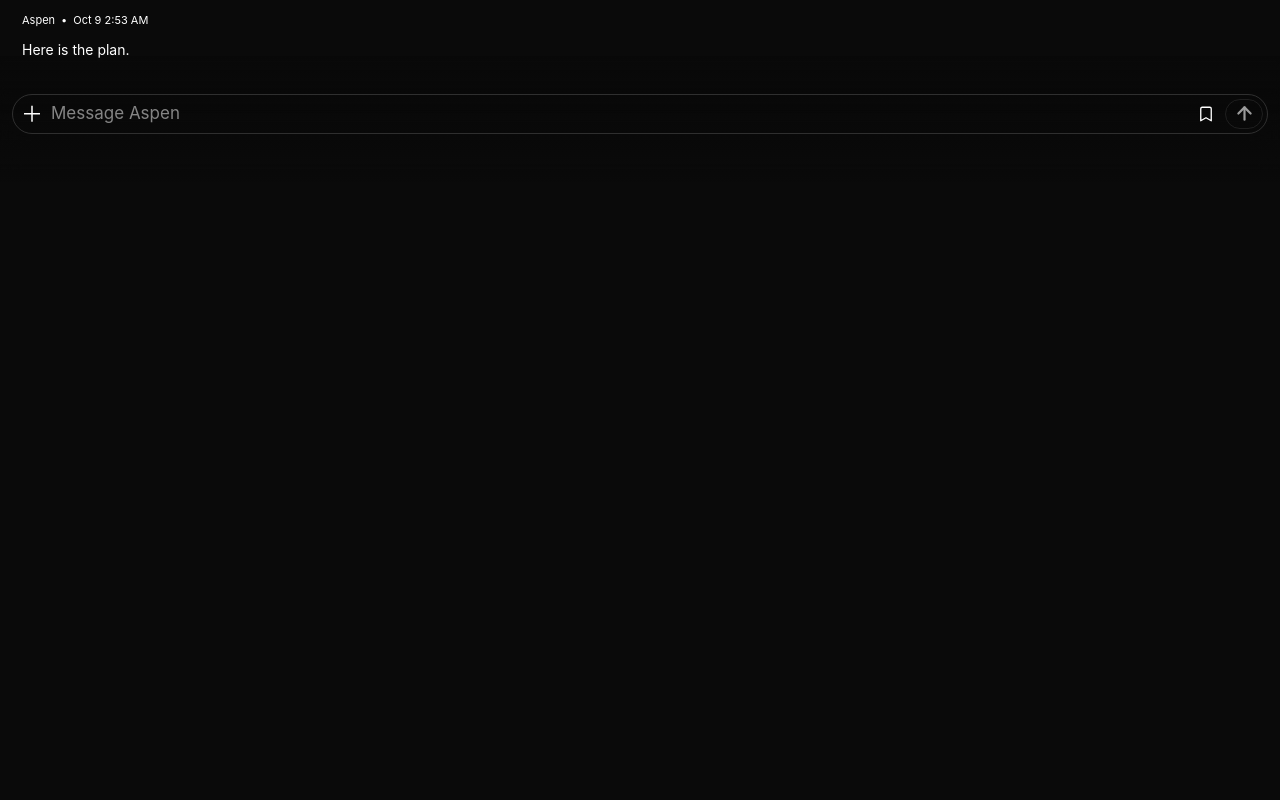
Test case: the stash button and sheet › ✕ deletes an item
Click the button with test id "stash-button": (1206,114) [1191, 98, 1221, 128]
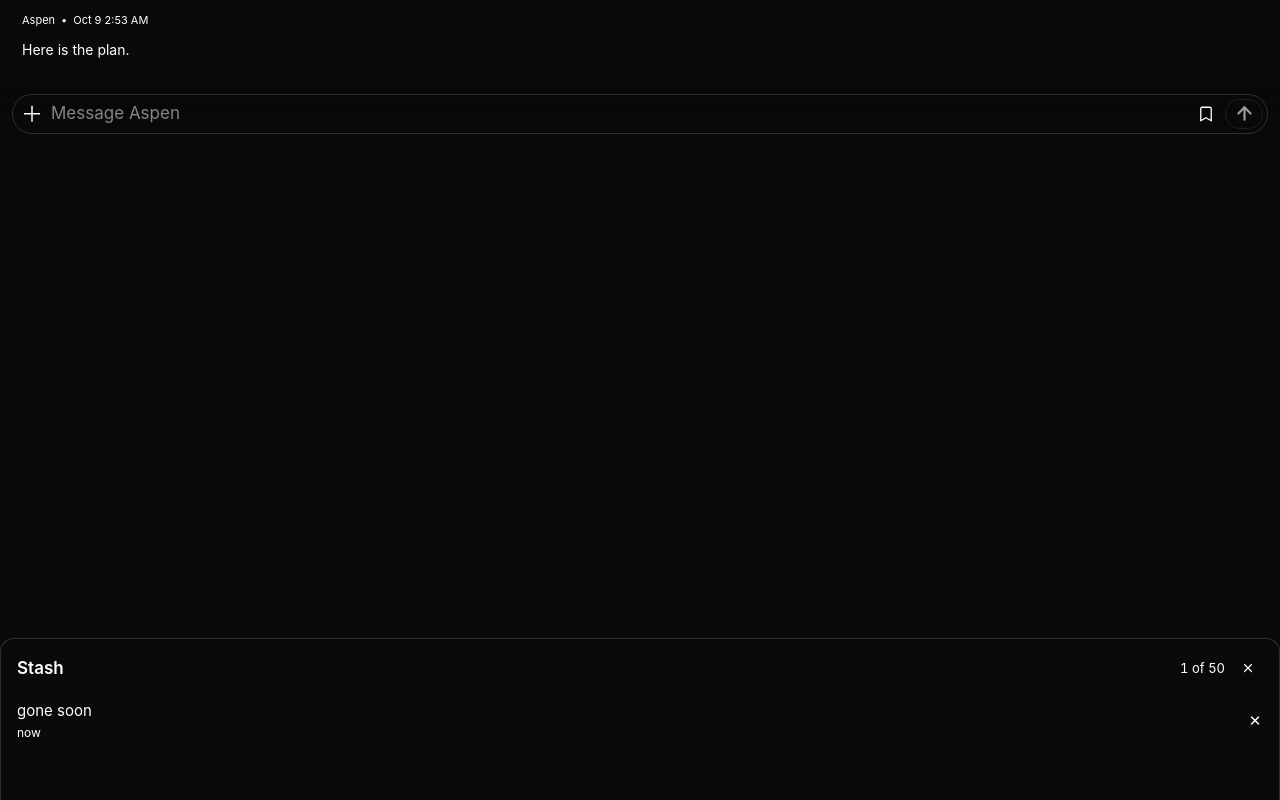
Click the button with test id "stash-item-delete": (1255,722) [1231, 691, 1279, 752]
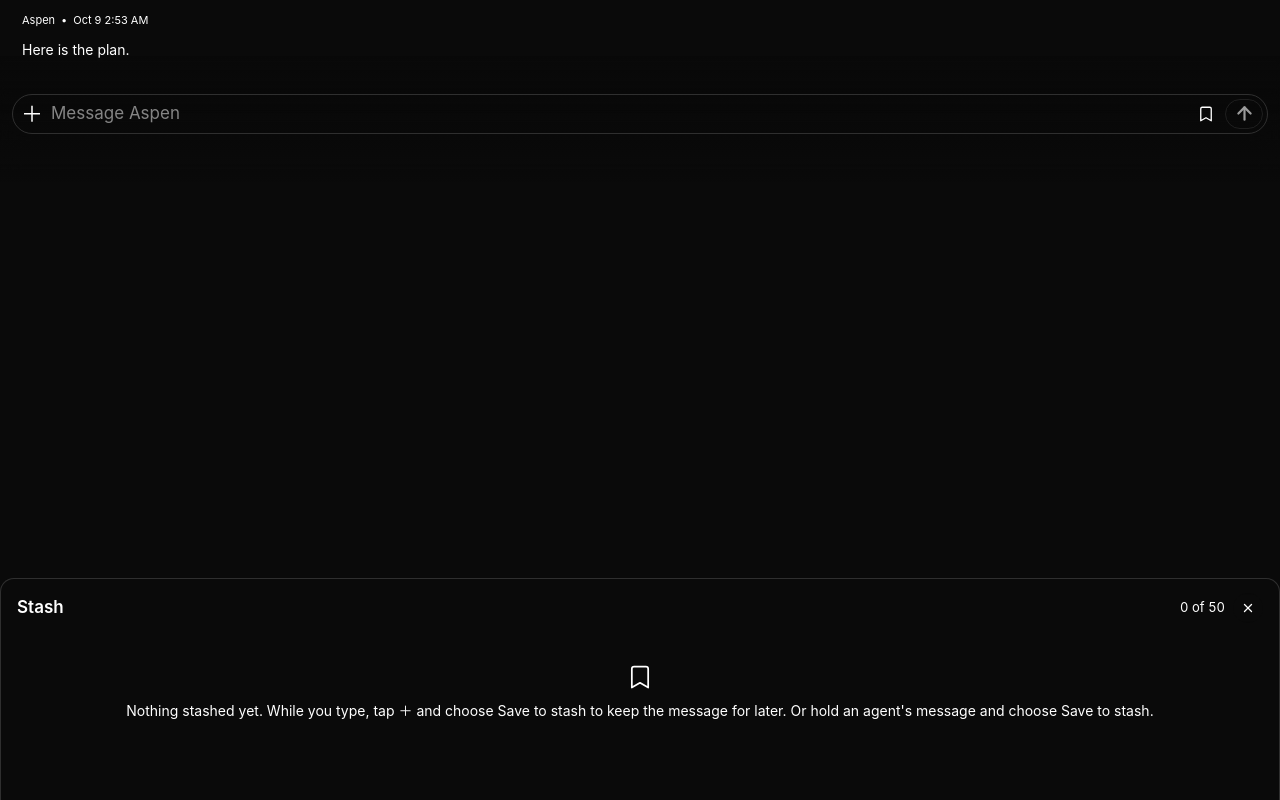
Expected: the element with test id "stash-empty" is shown, [126, 663, 1154, 719]
